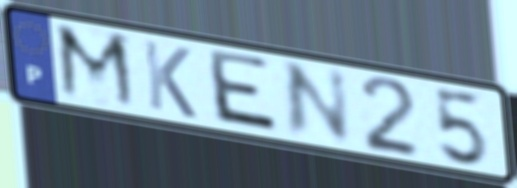2: (356, 73, 424, 162)
5: (431, 83, 491, 169)
E: (208, 46, 283, 138)
K: (140, 36, 200, 122)
M: (52, 19, 142, 115)
N: (281, 59, 355, 145)
